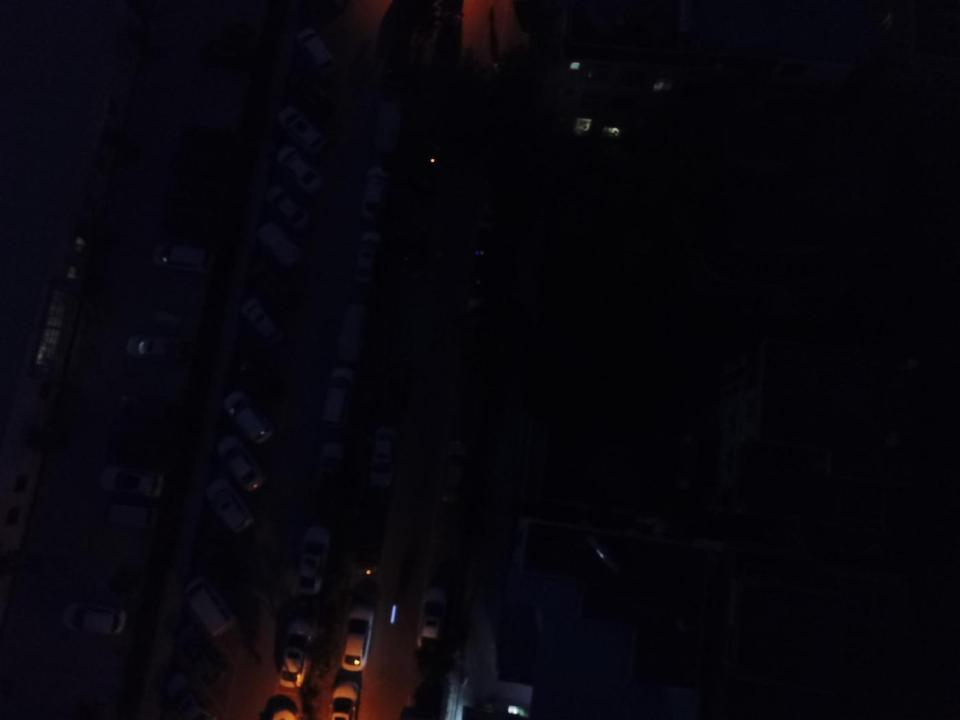car: (247, 207, 303, 267), (292, 522, 336, 596), (213, 433, 266, 493), (204, 476, 258, 533), (91, 461, 170, 498), (223, 386, 274, 443), (413, 590, 452, 664), (231, 283, 281, 340), (256, 171, 307, 224), (121, 331, 201, 363), (278, 105, 328, 156), (278, 618, 314, 688), (149, 241, 220, 275), (56, 603, 130, 635), (321, 363, 356, 429), (341, 605, 375, 672), (274, 143, 320, 192), (334, 296, 368, 357), (358, 160, 389, 224), (349, 228, 383, 286), (370, 424, 398, 494), (294, 23, 332, 68), (329, 680, 362, 720)
van: (182, 575, 238, 637)
